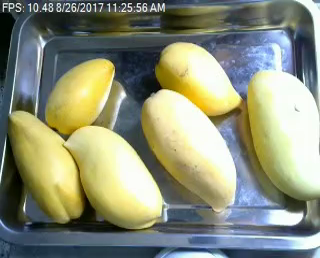Mango: (142, 88, 237, 213), (63, 127, 162, 228), (247, 69, 320, 202), (7, 110, 83, 223), (154, 39, 243, 116), (45, 59, 116, 135)
